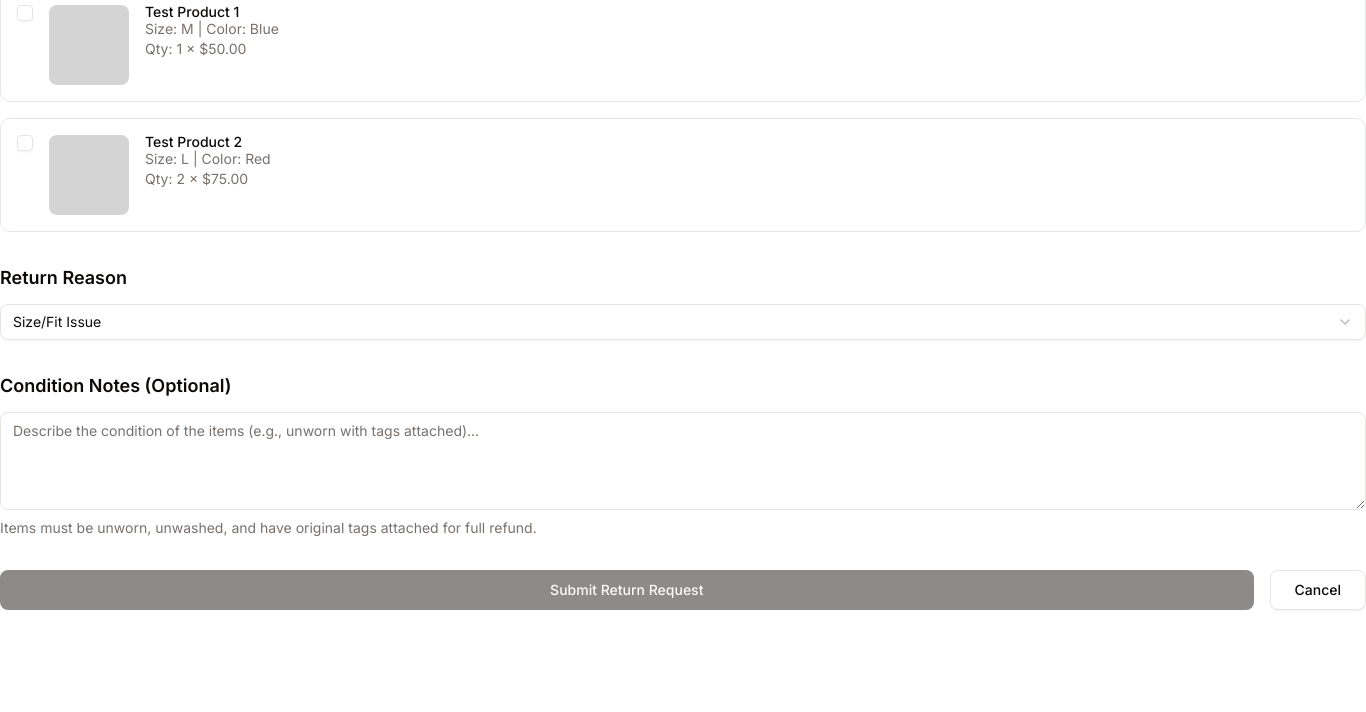
ReturnRequestForm › enables submit button when items are selected
Click the checkbox next to "Test Product 1" at (25, 13), box x1=17 y1=5 x2=33 y2=21
(page scrolled)
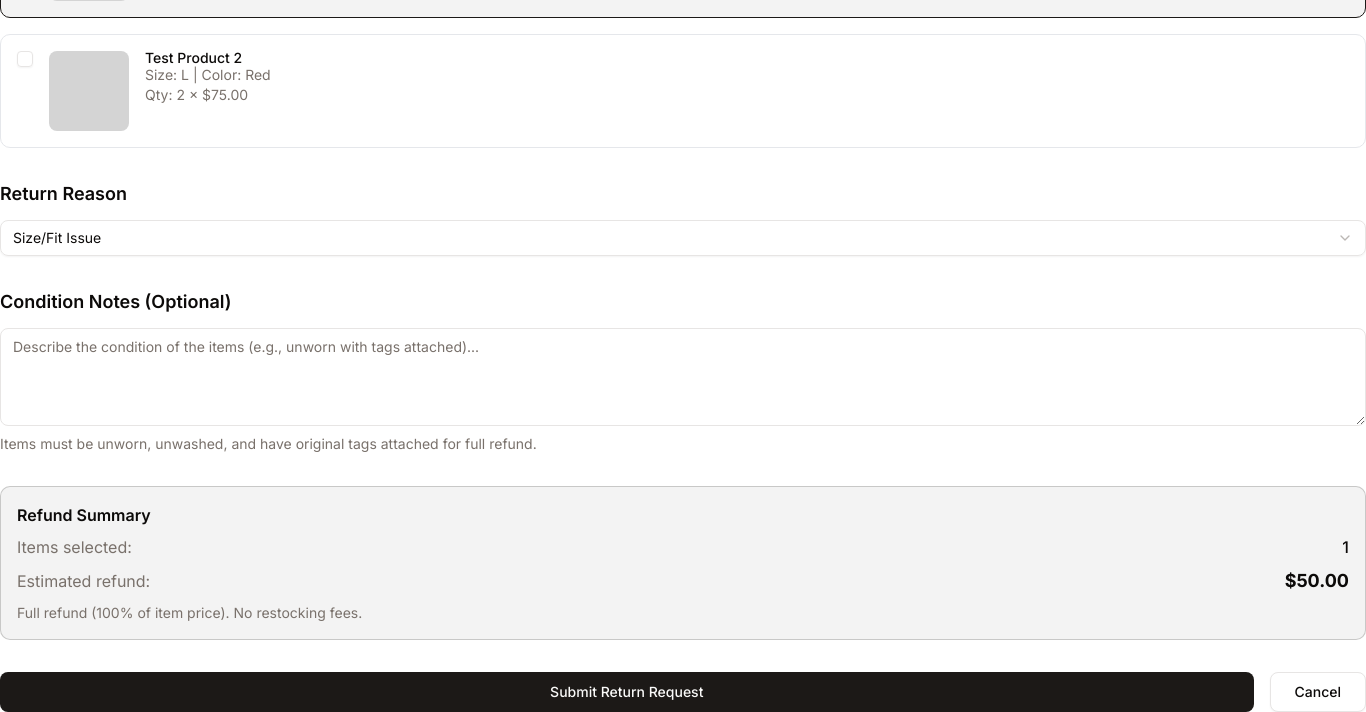
Check: the button "Submit Return Request" is enabled, box x1=0 y1=672 x2=1254 y2=711
